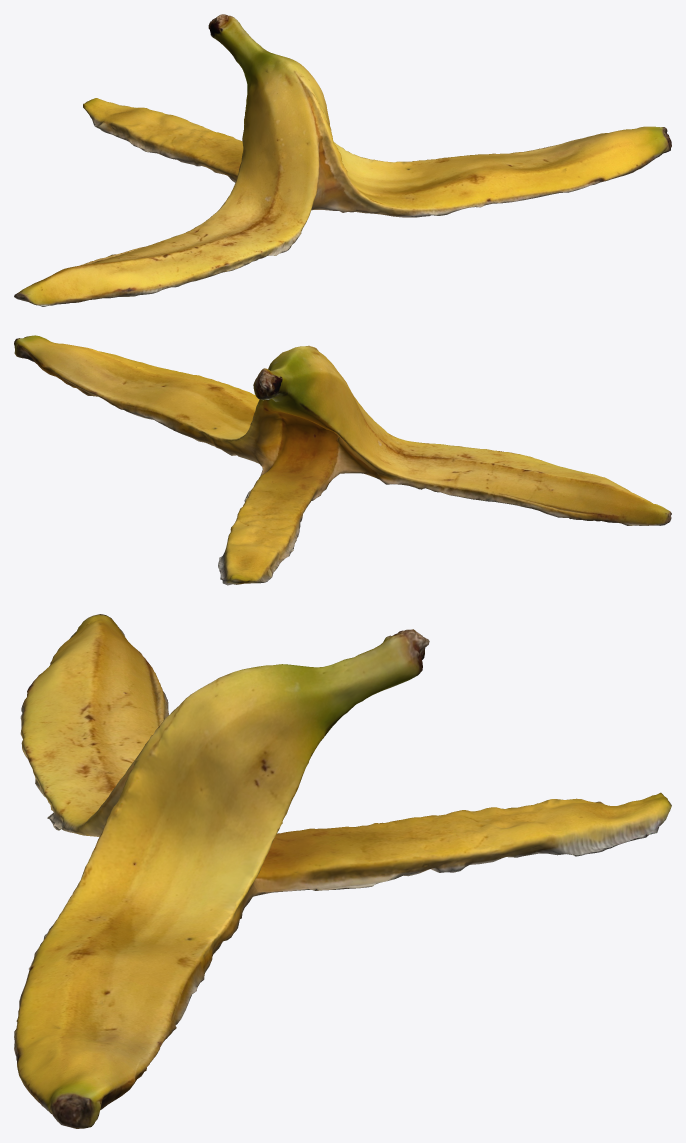
File: 3DModel_LowPoly.obj
The picture shows the model from 3 angles, top to bottom: view 1: azimuth 30°, elevation 25°; view 2: azimuth 150°, elevation 25°; view 3: azimuth 270°, elevation 25°; orthographic projection. The views are drawn at different scales.
Visible parts, largest first — view 1: 3DModel_LowPoly; view 2: 3DModel_LowPoly; view 3: 3DModel_LowPoly.
Part boxes in pixels (x1,y1,x2,y2): 3DModel_LowPoly: (14,14,671,306); 3DModel_LowPoly: (14,335,671,585); 3DModel_LowPoly: (14,614,671,1128).
Bounding box in the file's own units: 0.329 × 0.0723 × 0.1792.
1 material, 1 textured.
